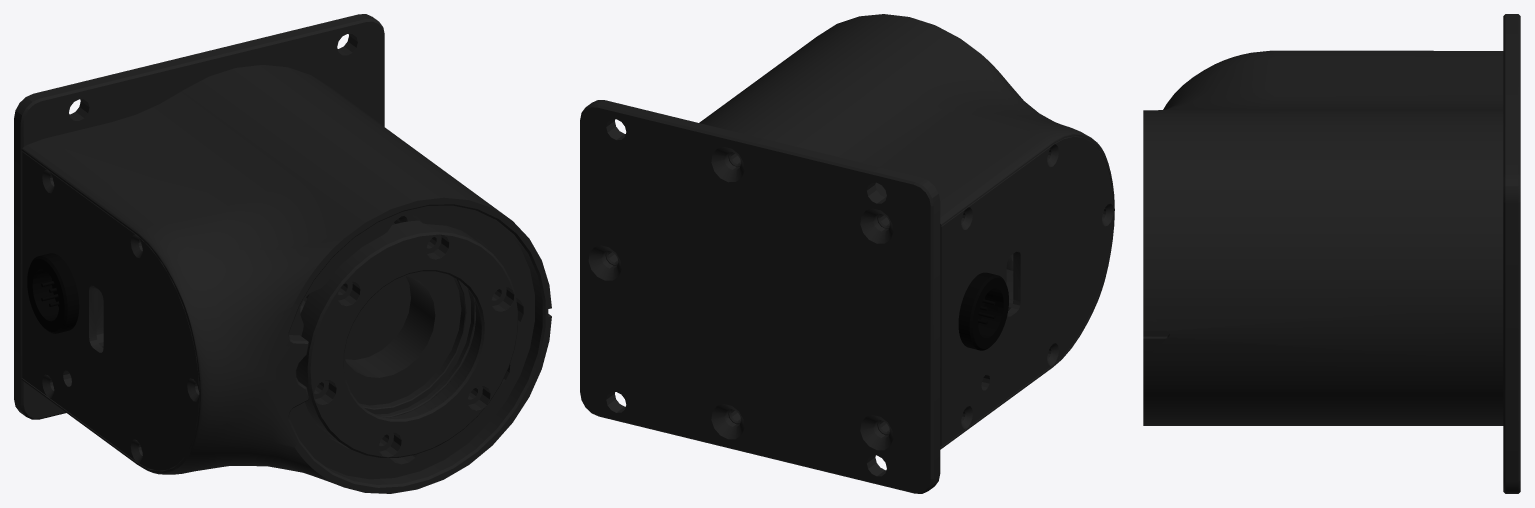
The picture shows the model from 3 angles, left to right: view 1: azimuth 30°, elevation 25°; view 2: azimuth 150°, elevation 25°; view 3: azimuth 270°, elevation 25°; orthographic projection. The views are drawn at different scales.
Bounding box in the file's own units: 0.0985 × 0.08 × 0.086.
Materials: 1 (1 with a texture image).
